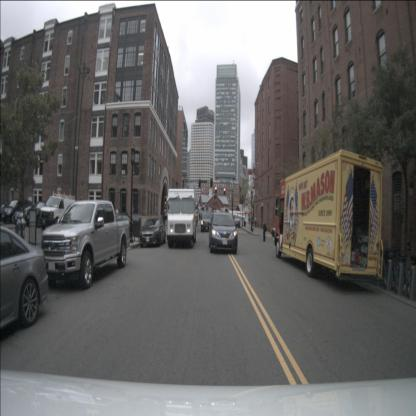human-pedestrian-adult: (263, 219, 267, 242), (162, 209, 166, 226), (248, 216, 251, 228), (255, 216, 257, 228)
vehicle-car: (0, 225, 49, 335), (38, 190, 77, 230), (208, 212, 238, 254), (24, 200, 58, 228), (140, 218, 166, 247), (3, 199, 32, 224), (13, 202, 42, 226), (200, 213, 212, 232), (233, 217, 240, 228)
vehicle-truck: (274, 149, 384, 277), (42, 199, 130, 289), (167, 188, 199, 248)
